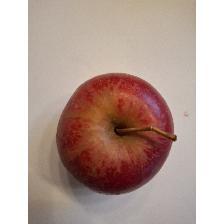Apfel: (52, 68, 180, 200)
